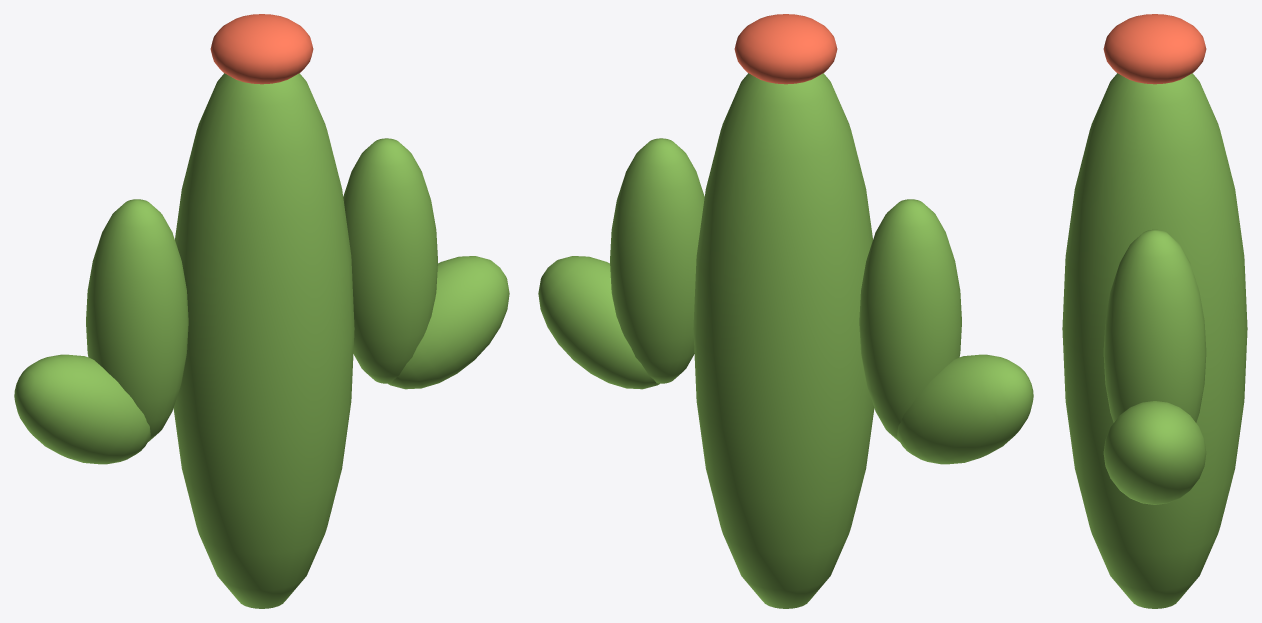
The model's file is flora_cactus.glb.
3 views of the same model, side by side, from view 1: azimuth 30°, elevation 25°; view 2: azimuth 150°, elevation 25°; view 3: azimuth 270°, elevation 25° (orthographic).
Visible parts, largest first — view 1: Main, Arm1, Arm-1, Elbow-1, Elbow1, Flower; view 2: Main, Arm1, Arm-1, Elbow-1, Elbow1, Flower; view 3: Main, Arm1, Elbow1, Flower.
Part boxes in pixels (<box>): Main: <box>173,73,354,608</box>; Arm1: <box>343,138,437,383</box>; Arm-1: <box>86,199,188,441</box>; Elbow-1: <box>14,354,150,464</box>; Elbow1: <box>388,256,509,389</box>; Flower: <box>210,14,313,84</box>; Main: <box>693,73,874,608</box>; Arm1: <box>610,138,704,383</box>; Arm-1: <box>859,199,961,441</box>; Elbow-1: <box>897,354,1033,464</box>; Elbow1: <box>538,256,659,389</box>; Flower: <box>734,14,837,84</box>; Main: <box>1062,73,1247,608</box>; Arm1: <box>1103,229,1206,422</box>; Elbow1: <box>1103,401,1206,504</box>; Flower: <box>1103,14,1206,84</box>.
Size of the model in its own units: 2.72 by 3.15 by 0.9.
